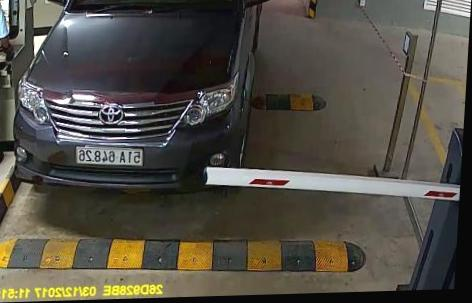License_Plate: (74, 145, 144, 168)
